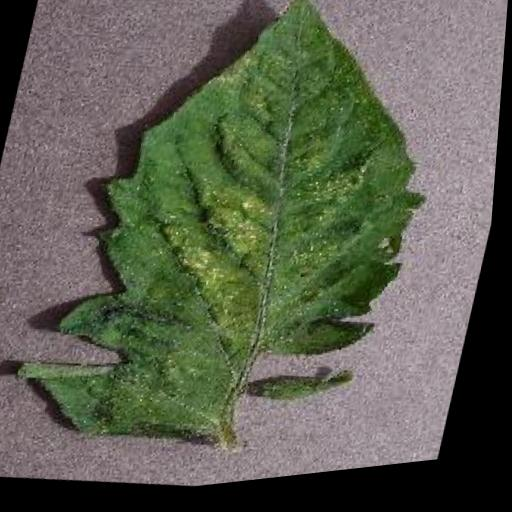Spider Mites: (1, 0, 474, 499)
